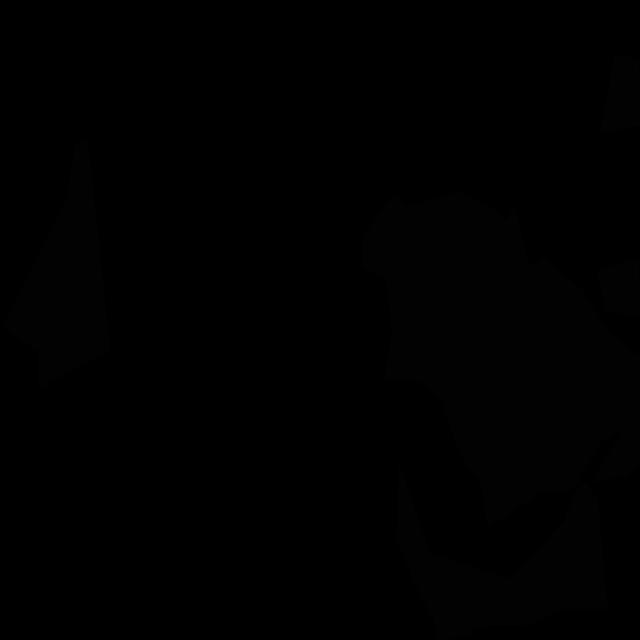cardboard: (362, 191, 640, 529), (396, 460, 608, 640), (1, 138, 110, 390), (600, 55, 640, 135), (596, 256, 640, 317)
